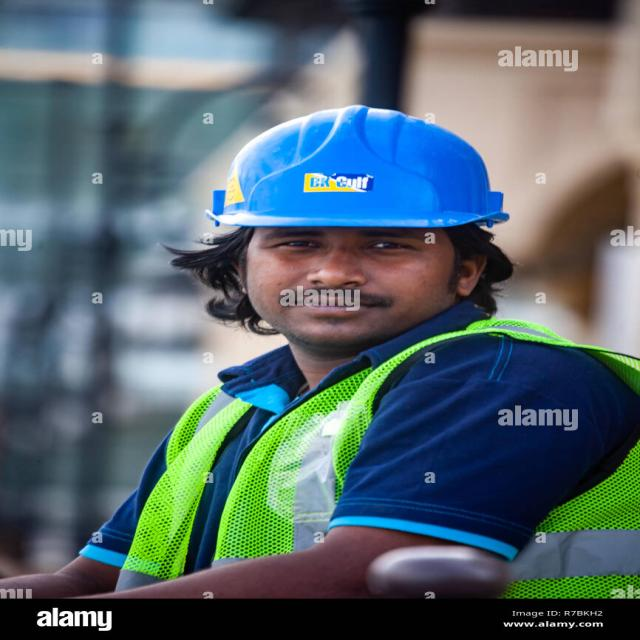helmet: (203, 102, 513, 230)
vest: (117, 317, 640, 599)
